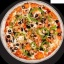olives: (54, 19, 62, 36), (3, 34, 13, 43), (7, 45, 18, 53), (26, 22, 34, 31)
pepper: (36, 26, 51, 40), (28, 5, 40, 22), (8, 20, 17, 28)
pizza: (2, 2, 61, 61)
